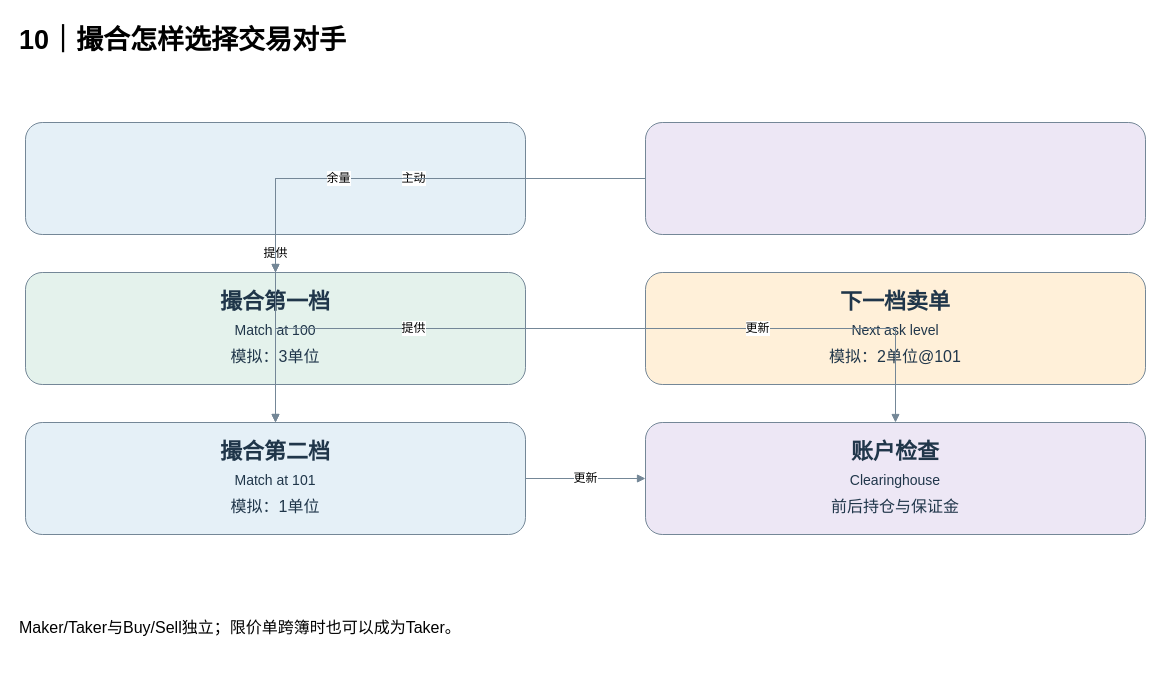
Image size: 1170x690. Some labels were removed from this diagram. The centre of each missing label's shape, as x and y in pixels:
"来买单 Incoming taker 模拟：限价101，数量4" goes at (895,178).
"等待卖单 Resting maker 模拟：3单位@100" goes at (275,178).
